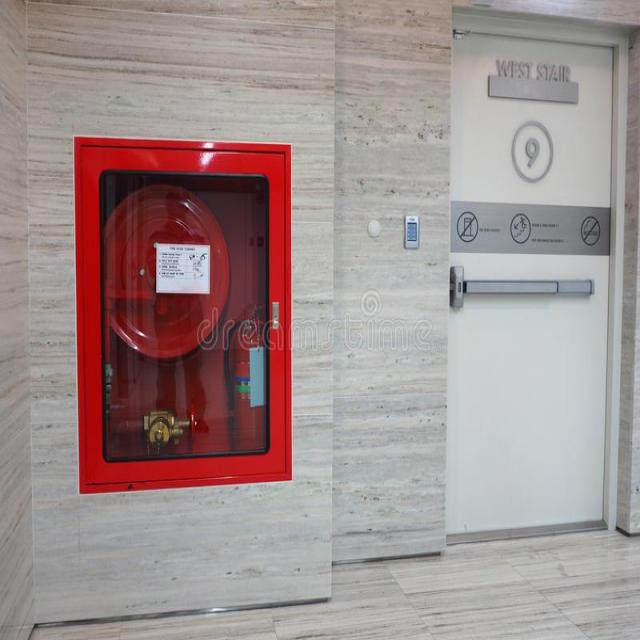fire_extinguisher: (212, 291, 272, 465)
